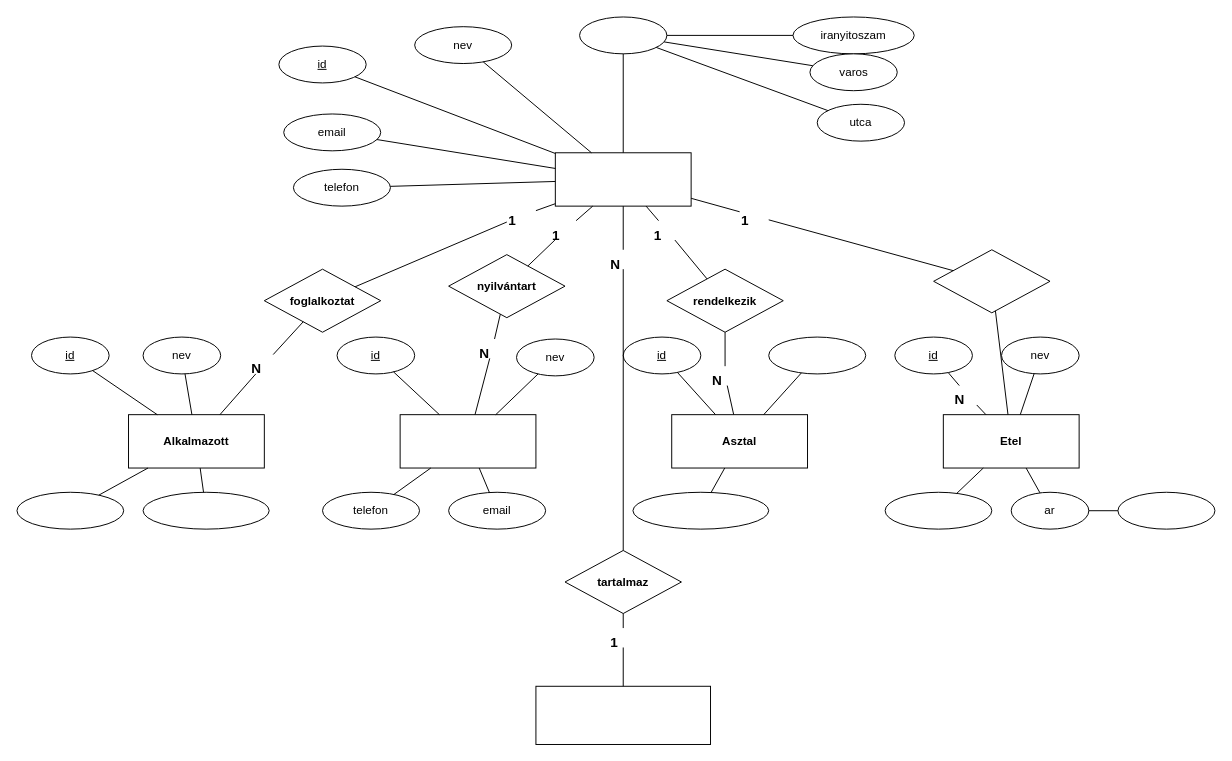
This 1232x761 diagram has some shape labels left out. Here are the shapes that lost their labels. From the top down, the centre of each, then its label:
point (623, 35): cim
point (622, 179): Vendeglo
point (991, 281): kínál
point (817, 355): ferohely
point (467, 441): Vendeg
point (70, 510): munkakor
point (205, 510): belepesDatum
point (700, 510): elhelyezkedes
point (938, 510): kategoria
point (1166, 510): penznem
point (623, 714): A6I2XW_Vendeglatas (gyökérelem)
